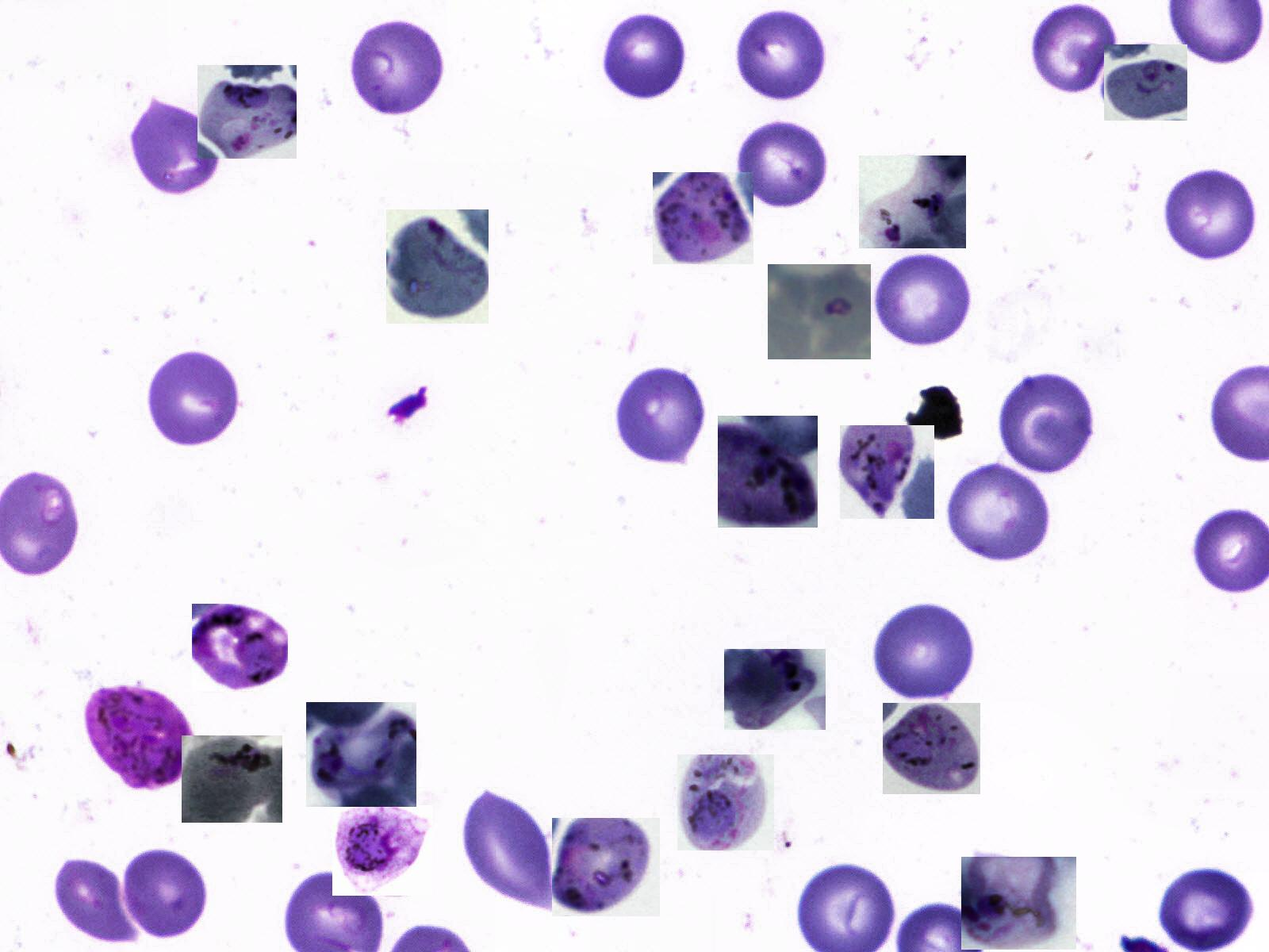Infected: (81, 681, 197, 793), (386, 209, 489, 324), (306, 702, 416, 807), (718, 416, 818, 528), (961, 857, 1076, 950), (552, 818, 660, 916), (859, 155, 966, 248), (768, 264, 871, 359), (197, 65, 297, 159), (677, 754, 774, 850), (653, 172, 753, 264), (332, 805, 433, 896), (840, 425, 934, 519), (883, 703, 980, 794), (182, 735, 282, 823), (192, 604, 288, 691), (724, 649, 826, 730), (1104, 44, 1187, 121)
Uninfected: (345, 18, 449, 121), (949, 459, 1049, 565), (144, 347, 243, 451), (466, 789, 554, 906), (870, 605, 976, 701), (874, 251, 976, 350), (124, 98, 221, 200), (999, 373, 1096, 474), (1160, 166, 1263, 260), (733, 6, 830, 102), (614, 366, 707, 466), (734, 120, 833, 208), (600, 8, 692, 102), (1157, 865, 1256, 952), (121, 849, 211, 941), (1029, 2, 1119, 94), (56, 858, 144, 948)
